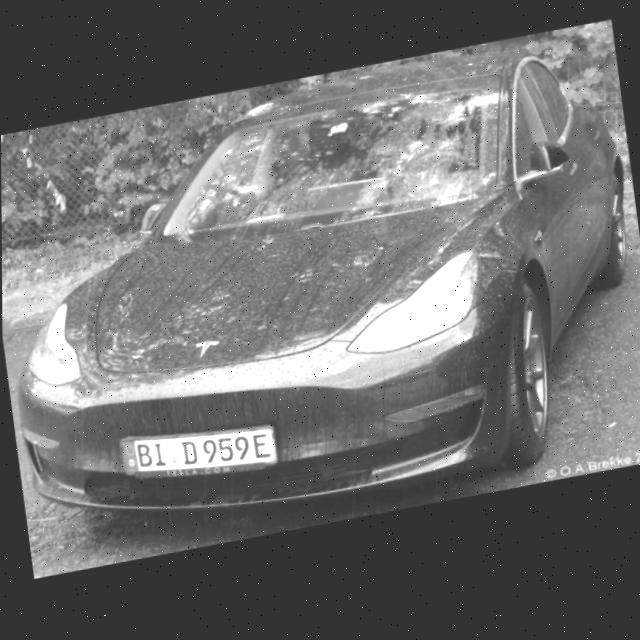license-plates: (121, 426, 277, 475)
